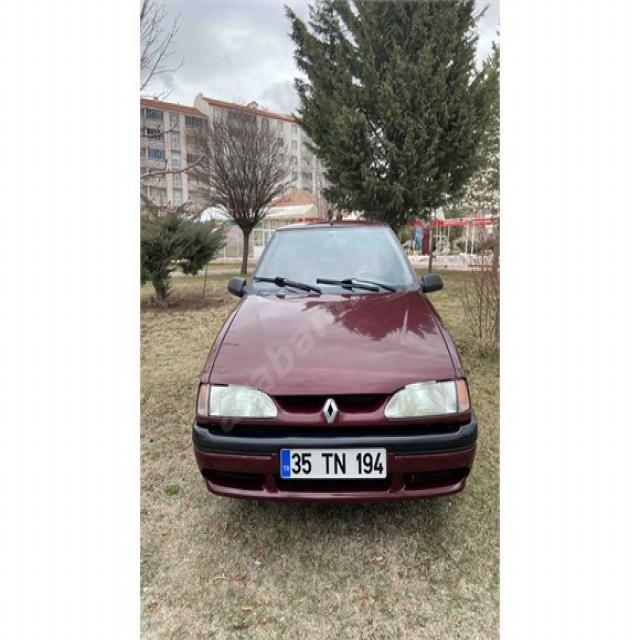plate: (280, 445, 390, 485)
